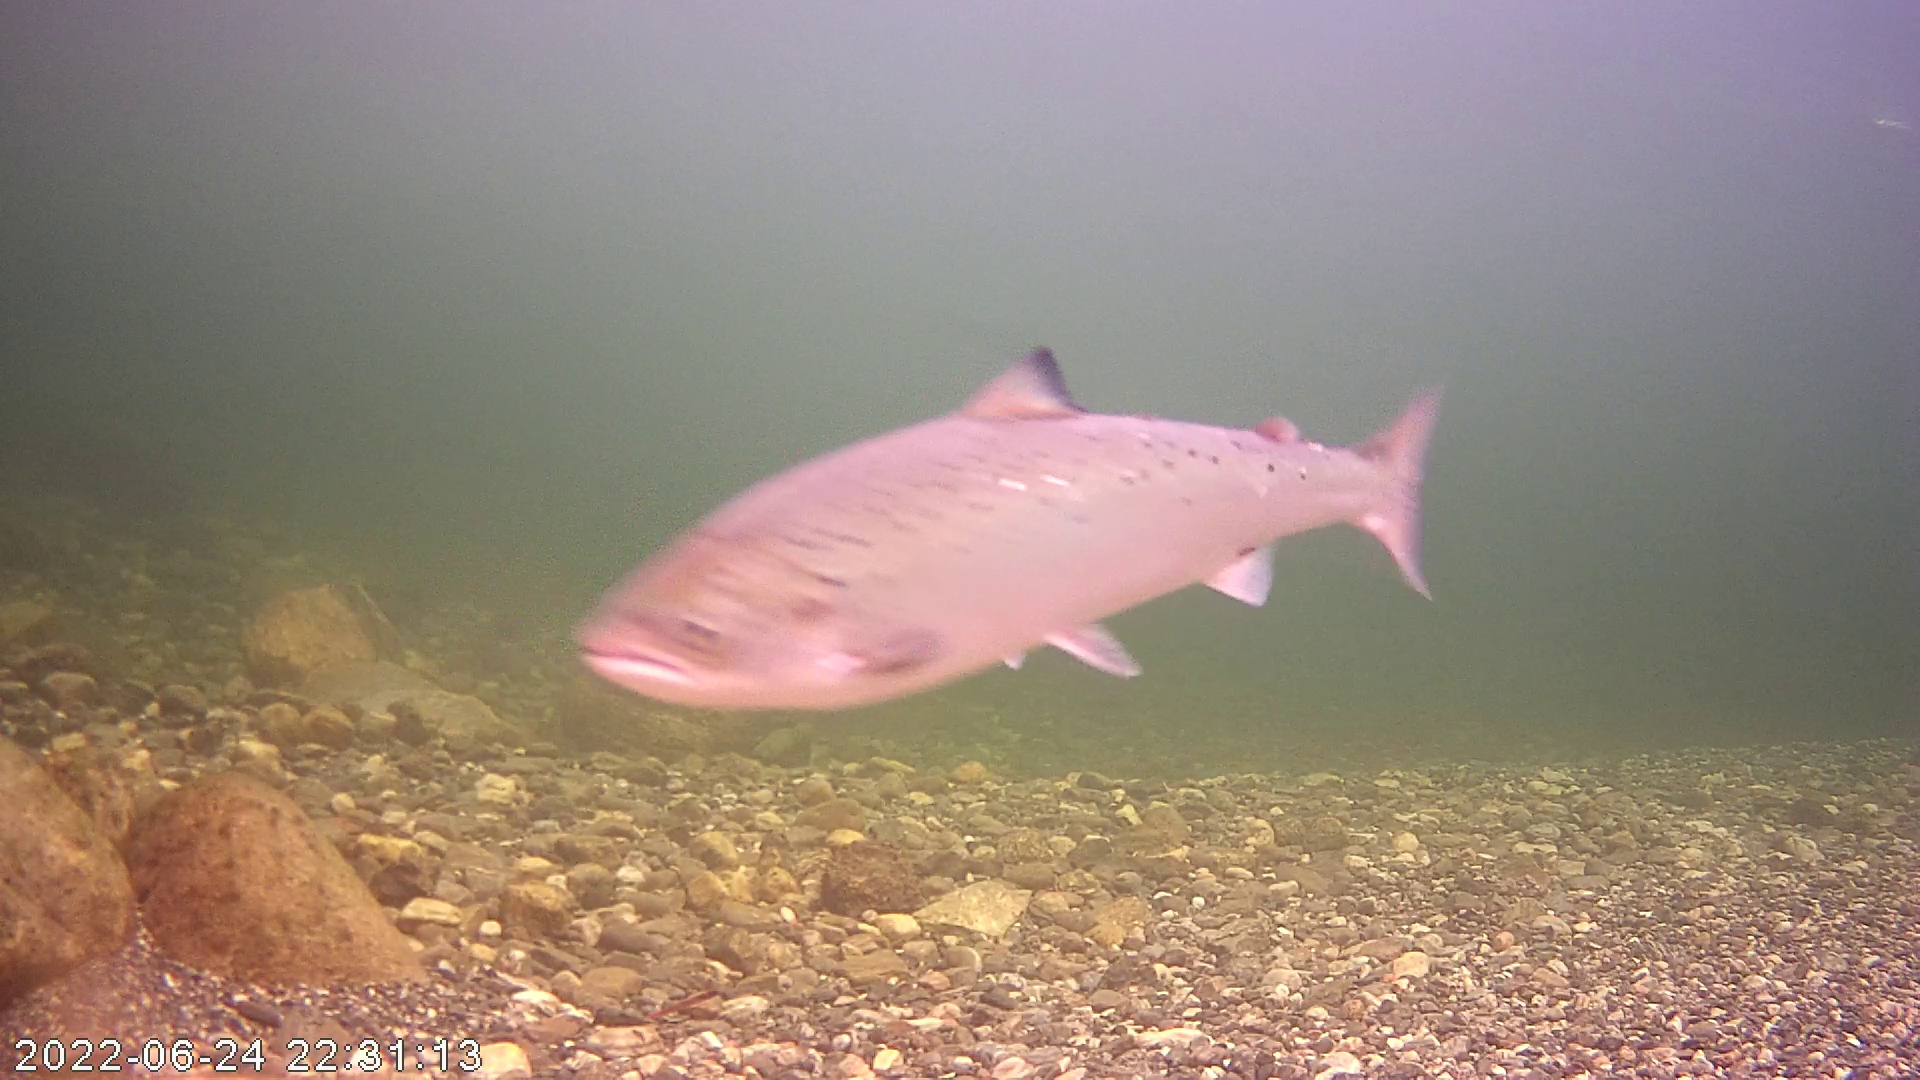salmon: (564, 345, 1443, 716)
